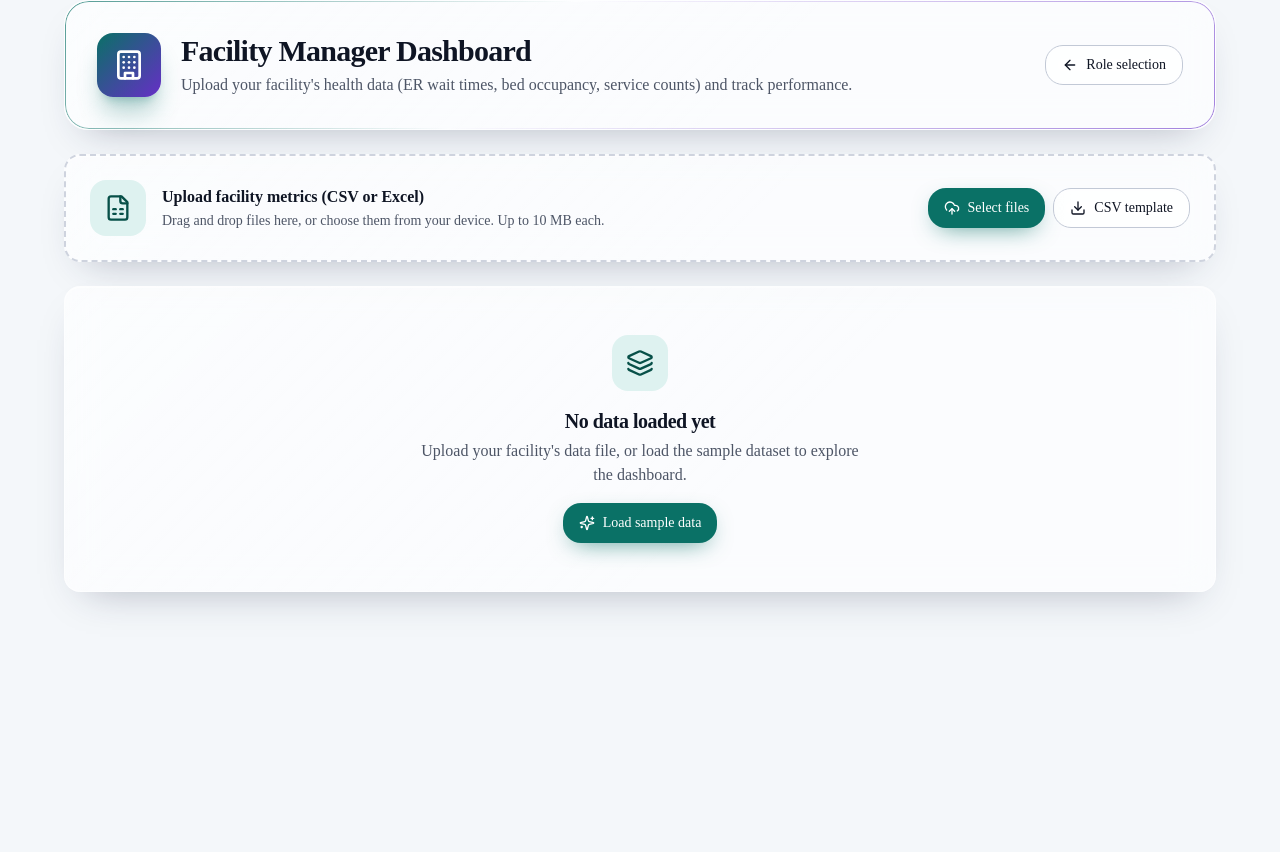
Test: RoleDashboard › loads sample data into a summary, tabs and metric cards, and can clear it
The image size is (1280, 852).
Step 1. Click the button "Load sample data" → (640, 523), box [563,503,717,543]
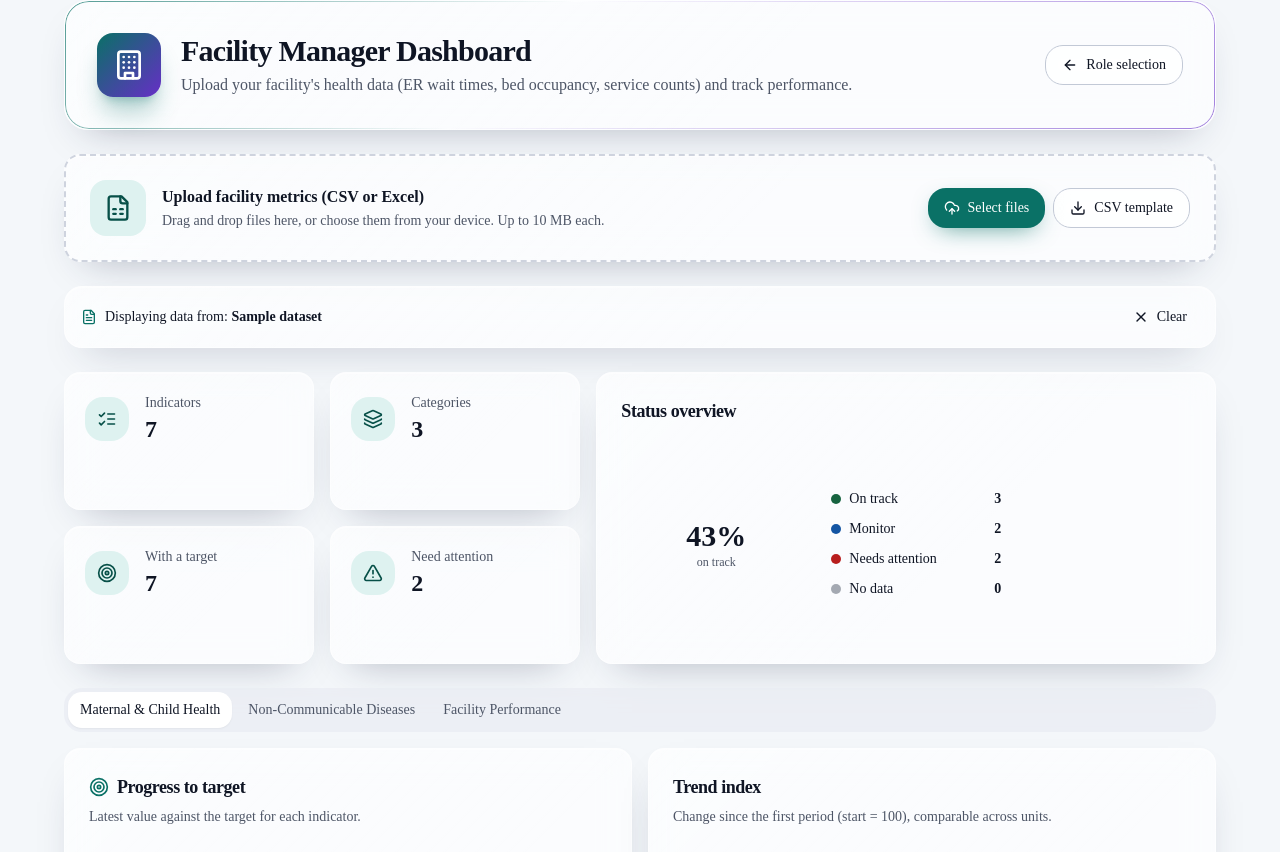
Expected: the text "Displaying data from: Sample dataset" is shown, [105,307,322,327]
Expected: the tab "Maternal & Child Health" is shown, [68,692,232,728]
Expected: the heading "Status overview" is shown, [621,401,736,421]
Step 2. Click the button "Clear" → (1160, 317), box [1121,299,1199,335]
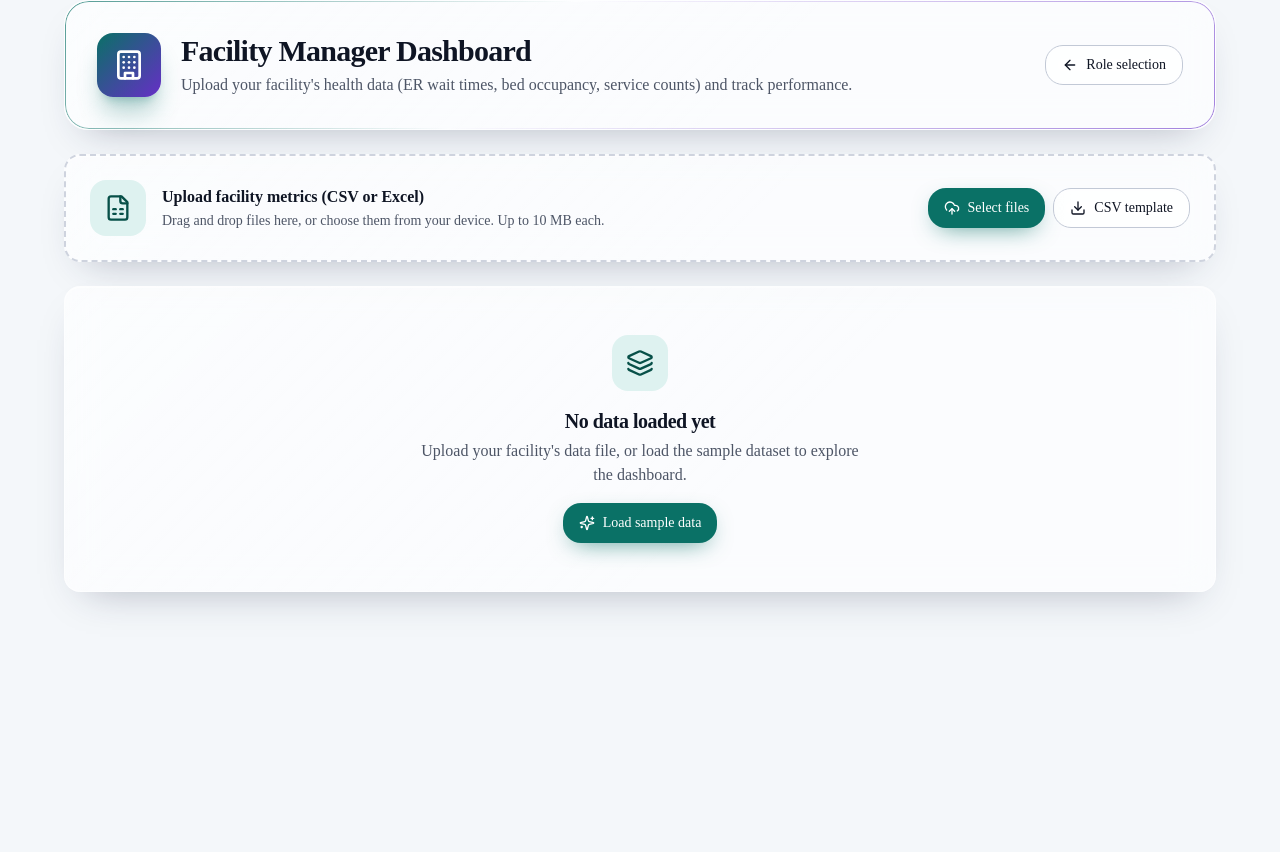
Expected: the heading "No data loaded yet" is shown, [565,410,715,432]
